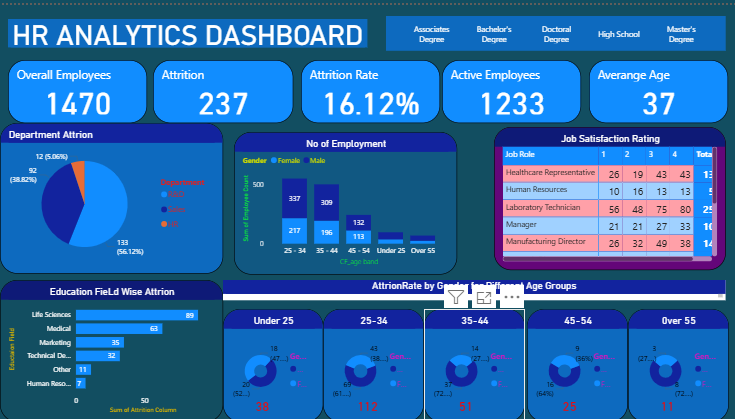

The dashboard page shown, as its layout file describes it:
{"tool":"powerbi","page":{"name":"Page 1","canvas":[1280,720],"ordinal":0},"visuals":[{"type":"card","title":"Overall Employees","fields":{"Values":["Sum(HR data.Employee Count)"]},"box":[13.4,94.1,240.2,109.2],"z":0},{"type":"card","title":"Attrition","fields":{"Values":["Sum(HR data.Attrition Column)"]},"box":[263.7,94.1,241.9,109.2],"z":1000},{"type":"card","title":"Attrition Rate","fields":{"Values":["HR data.Attrition Rate"]},"box":[519.1,94.1,240.2,109.2],"z":2000},{"type":"card","title":"Active Employees","fields":{"Values":["HR data.Active Employees"]},"box":[762.6,94.1,240.2,109.2],"z":3000},{"type":"card","title":"Averange Age","fields":{"Values":["Avg(HR data.Age)"]},"box":[1016.3,94.1,240.2,109.2],"z":4000},{"type":"pieChart","title":"Department Attrion","fields":{"Category":["HR data.Department"],"Y":["Sum(HR data.Attrition Column)"]},"box":[0,203.3,384.7,260.4],"z":5000},{"type":"columnChart","title":"No of Employment","fields":{"Category":["HR data.CF_age band"],"Y":["Sum(HR data.Employee Count)"],"Series":["HR data.Gender"]},"box":[403.8,218.8,385.4,245.6],"z":6000},{"type":"pivotTable","title":"Job Satisfaction Rating","fields":{"Rows":["HR data.Job Role"],"Columns":["HR data.Job Satisfaction"],"Values":["Sum(HR data.Employee Count)"]},"box":[851.7,210,399.8,246.9],"z":7000},{"type":"clusteredBarChart","title":"Education FieLd Wise Attrion","fields":{"Category":["HR data.Education Field"],"Y":["Sum(HR data.Attrition Column)"]},"box":[0,475,385,245],"z":8000},{"type":"donutChart","title":"Under 25","fields":{"Category":["HR data.Gender"],"Y":["Sum(HR data.Attrition Column)"],"Series":["HR data.CF_age band"]},"box":[384,525.2,173,194.8],"z":9000},{"type":"textbox","title":"AttrionRate by Gender for Different Age Groups","box":[385.4,474.4,866.8,35.3],"z":10000},{"type":"donutChart","title":"25-34","fields":{"Category":["HR data.Gender"],"Y":["Sum(HR data.Attrition Column)"],"Series":["HR data.CF_age band"]},"box":[557.6,525.2,173.6,194.8],"z":11000},{"type":"donutChart","title":"35-44","fields":{"Category":["HR data.Gender"],"Y":["Sum(HR data.Attrition Column)"],"Series":["HR data.CF_age band"]},"box":[731.3,525.2,173.6,194.8],"z":12000},{"type":"donutChart","title":"45-54","fields":{"Category":["HR data.Gender"],"Y":["Sum(HR data.Attrition Column)"],"Series":["HR data.CF_age band"]},"box":[909.2,525.2,173.6,194.8],"z":13000},{"type":"donutChart","title":"0ver 55","fields":{"Category":["HR data.Gender"],"Y":["Sum(HR data.Attrition Column)"],"Series":["HR data.CF_age band"]},"box":[1082.8,525.2,173.6,194.8],"z":14000},{"type":"card","fields":{"Values":["Sum(HR data.Attrition Column)"]},"box":[435.1,678.6,35.3,25.2],"z":15000},{"type":"card","fields":{"Values":["Sum(HR data.Attrition Column)"]},"box":[601.4,678.6,63.8,25.2],"z":16000},{"type":"card","fields":{"Values":["Sum(HR data.Attrition Column)"]},"box":[781.1,678.6,43.7,25.2],"z":17000},{"type":"card","fields":{"Values":["Sum(HR data.Attrition Column)"]},"box":[962.5,678.6,40.3,25.2],"z":18000},{"type":"card","fields":{"Values":["Sum(HR data.Attrition Column)"]},"box":[1133.9,678.6,35.3,25.2],"z":19000},{"type":"textbox","title":"HR ANALYTICS DASHBOARD","box":[13.4,23.5,619.8,48.7],"z":20000},{"type":"slicer","fields":{"Values":["HR data.Education"]},"box":[665.2,18.5,586.2,60.5],"z":20001}]}

Visuals, with their boxes in screenshot pixels (x1, y1, x2, y2), scaled from the page's 1280x720 canvas onto the 735x419 screenshot:
"Overall Employees" card: 8,55,146,118
"Attrition" card: 151,55,290,118
"Attrition Rate" card: 298,55,436,118
"Active Employees" card: 438,55,576,118
"Averange Age" card: 584,55,722,118
"Department Attrion" pieChart: 0,118,221,270
"No of Employment" columnChart: 232,127,453,270
"Job Satisfaction Rating" pivotTable: 489,122,719,266
"Education FieLd Wise Attrion" clusteredBarChart: 0,276,221,418
"Under 25" donutChart: 220,306,320,418
"AttrionRate by Gender for Different Age Groups" textbox: 221,276,719,297
"25-34" donutChart: 320,306,420,418
"35-44" donutChart: 420,306,520,418
"45-54" donutChart: 522,306,622,418
"0ver 55" donutChart: 622,306,721,418
card - Sum(HR data.Attrition Column): 250,395,270,410
card - Sum(HR data.Attrition Column): 345,395,382,410
card - Sum(HR data.Attrition Column): 449,395,474,410
card - Sum(HR data.Attrition Column): 553,395,576,410
card - Sum(HR data.Attrition Column): 651,395,671,410
"HR ANALYTICS DASHBOARD" textbox: 8,14,364,42
slicer - HR data.Education: 382,11,719,46
